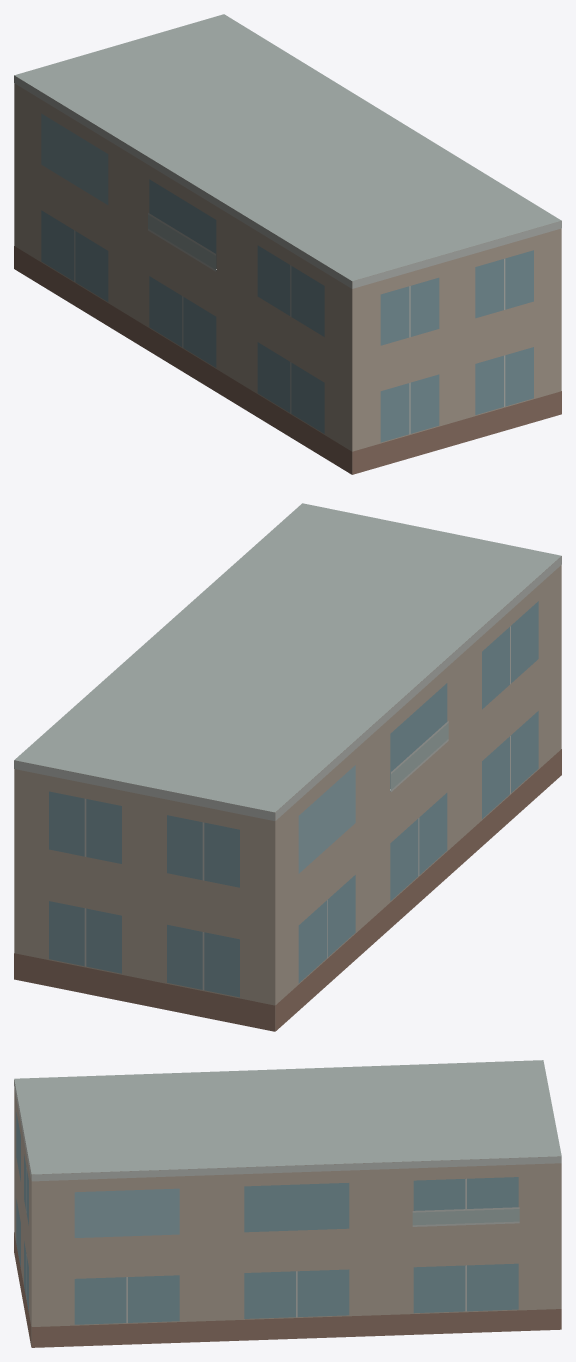
The model's file is survey-upis-32919863.glb.
3 views of the same model, one above another, from view 1: azimuth 30°, elevation 25°; view 2: azimuth 150°, elevation 25°; view 3: azimuth 270°, elevation 25° (orthographic). The views are drawn at different scales.
Parts seen in each view (by area): view 1: survey-upis-32919863.tmp; view 2: survey-upis-32919863.tmp; view 3: survey-upis-32919863.tmp.
Part boxes in pixels (x1,y1,x2,y2): survey-upis-32919863.tmp: [14, 14, 561, 474]; survey-upis-32919863.tmp: [14, 503, 561, 1031]; survey-upis-32919863.tmp: [14, 1060, 561, 1347].
Size of the model in its own units: 8.65 by 6.1 by 17.48.
